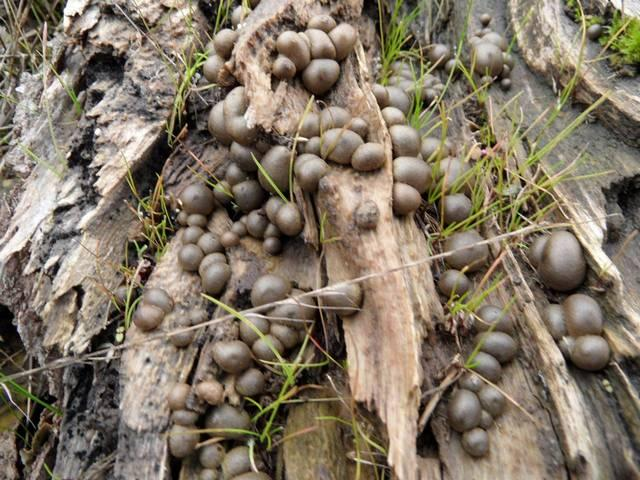poisonous_mushroom: (109, 0, 611, 479), (529, 228, 586, 291), (561, 292, 603, 335), (445, 387, 481, 432), (568, 333, 610, 371), (468, 37, 504, 77)
